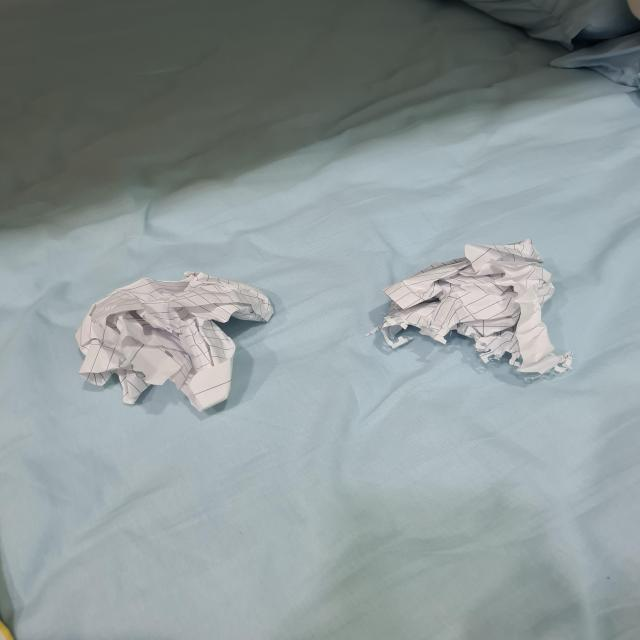kertas: (79, 272, 276, 412), (376, 248, 576, 374)
